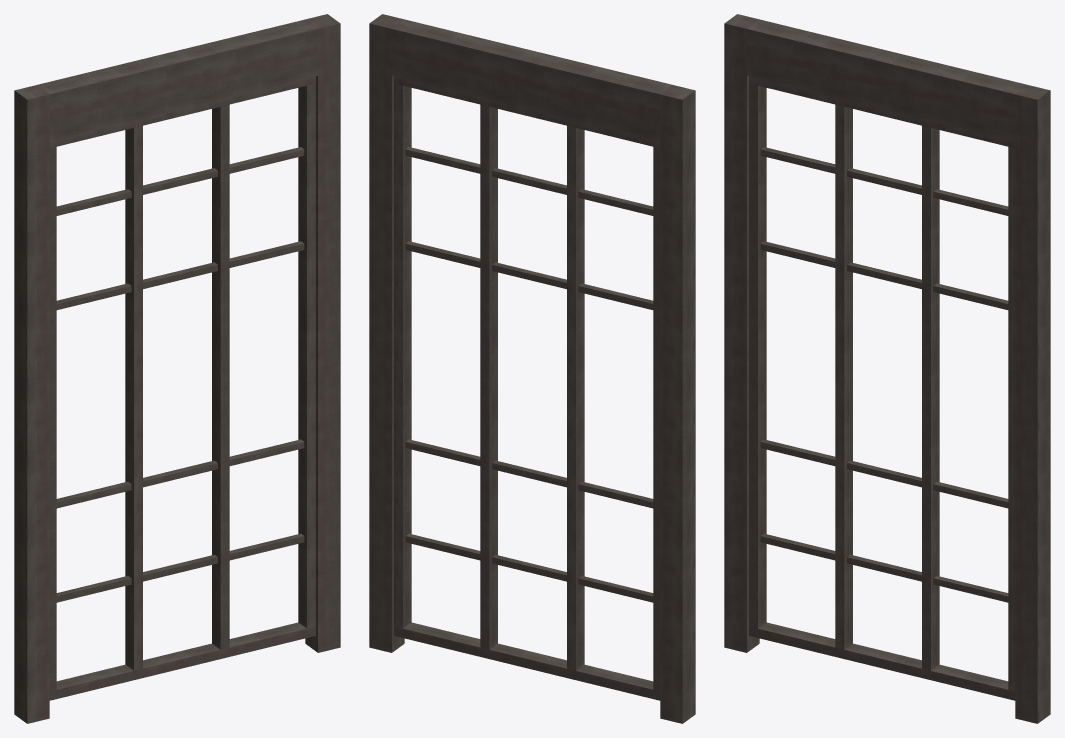
The model's file is es-kyomatiya-kasumi_h2000_karacha.fbx.
3 views of the same model, side by side, from view 1: azimuth 30°, elevation 25°; view 2: azimuth 150°, elevation 25°; view 3: azimuth 330°, elevation 25° (orthographic).
Visible parts, largest first — view 1: es-kyomatiya-kasumi_h2000_kakicha.001; view 2: es-kyomatiya-kasumi_h2000_kakicha.001; view 3: es-kyomatiya-kasumi_h2000_kakicha.001.
Part boxes in pixels (bbox=[...]): es-kyomatiya-kasumi_h2000_kakicha.001: bbox=[14, 14, 340, 723]; es-kyomatiya-kasumi_h2000_kakicha.001: bbox=[369, 14, 695, 723]; es-kyomatiya-kasumi_h2000_kakicha.001: bbox=[724, 14, 1050, 723].
Bounding box in the file's own units: 105 × 200 × 7.5.
2 materials, 2 textured.
